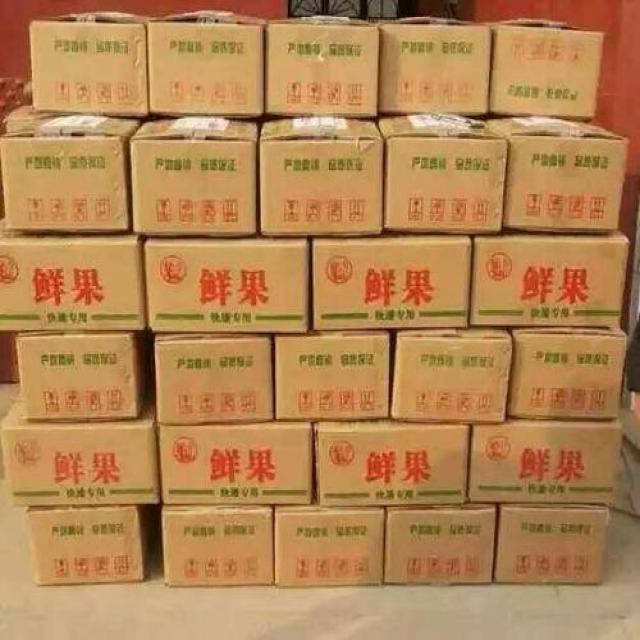box: (1, 389, 160, 508), (1, 115, 147, 236), (479, 117, 626, 231), (0, 218, 147, 331), (375, 114, 510, 234), (127, 116, 261, 236), (471, 228, 630, 328), (142, 237, 308, 331), (313, 232, 472, 330), (256, 116, 385, 236), (314, 417, 470, 506), (155, 420, 313, 504), (467, 419, 623, 504), (147, 10, 265, 115), (31, 11, 148, 116), (16, 331, 149, 421), (390, 327, 513, 423), (489, 19, 606, 118), (506, 327, 626, 422), (265, 17, 378, 117), (378, 18, 494, 114), (155, 333, 274, 425), (22, 504, 154, 586), (273, 330, 389, 419), (495, 502, 610, 585), (271, 505, 384, 587), (383, 503, 496, 584), (163, 505, 274, 586), (5, 105, 36, 134)
